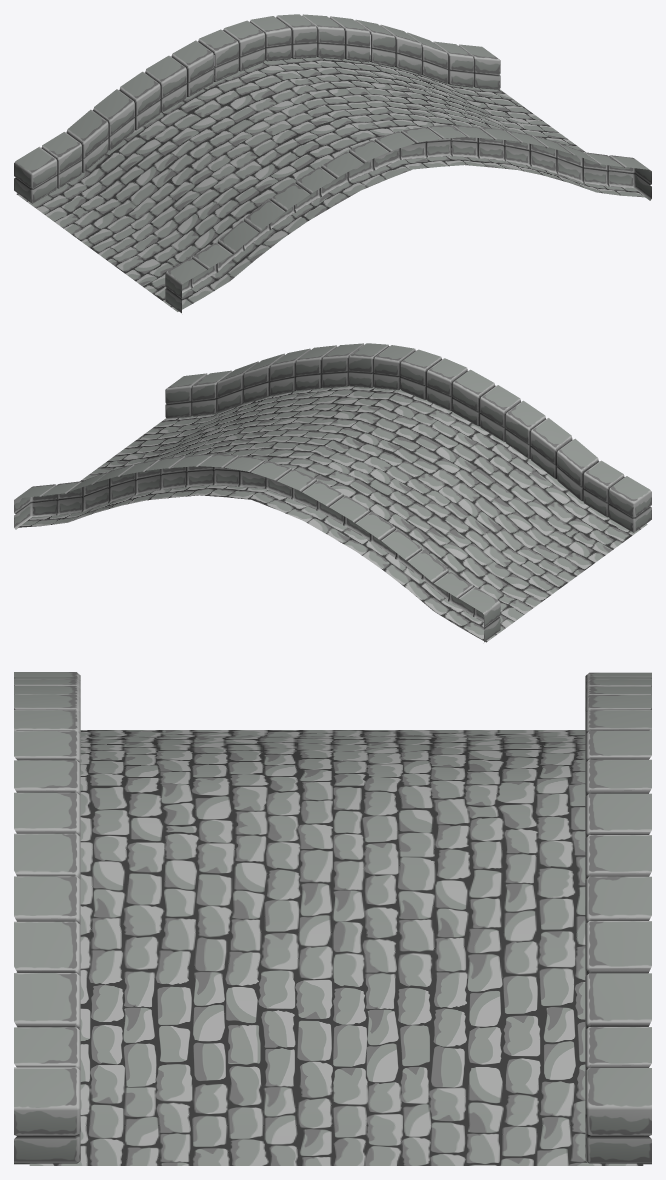
The model's file is mod_med_her_part_a_05.fbx.
3 views of the same model, one above another, from view 1: azimuth 30°, elevation 25°; view 2: azimuth 150°, elevation 25°; view 3: azimuth 270°, elevation 25° (orthographic). The views are drawn at different scales.
Visible parts, largest first — view 1: mod_med_her_part_a_05; view 2: mod_med_her_part_a_05; view 3: mod_med_her_part_a_05.
Part boxes in pixels (box(x1,y1,x2,y2)): mod_med_her_part_a_05: box(14, 14, 651, 313); mod_med_her_part_a_05: box(14, 343, 651, 642); mod_med_her_part_a_05: box(14, 672, 651, 1165).
Bounding box in the file's own units: 180 × 42.06 × 111.
